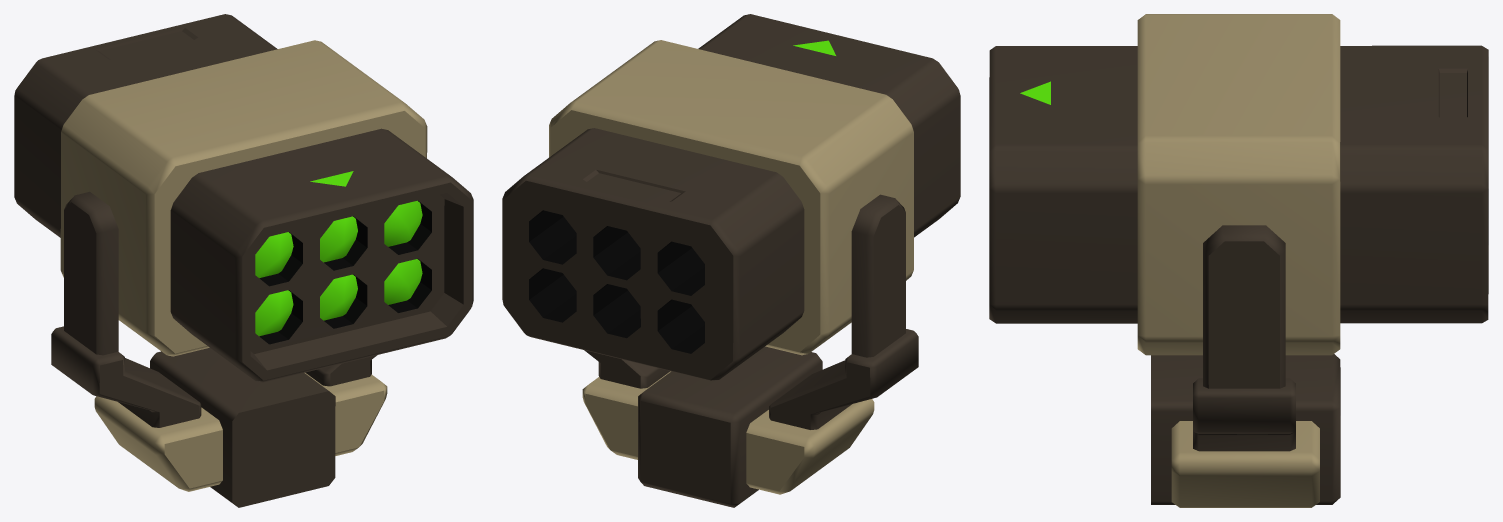
The model's file is Rocket.fbx.
The picture shows the model from 3 angles, left to right: view 1: azimuth 30°, elevation 25°; view 2: azimuth 150°, elevation 25°; view 3: azimuth 270°, elevation 25°; orthographic projection. The views are drawn at different scales.
Visible parts, largest first — view 1: rocketGun, rocketRoot; view 2: rocketGun, rocketRoot; view 3: rocketGun, rocketRoot.
Part boxes in pixels (box(x1,y1,x2,y2)): rocketGun: box(14, 14, 473, 382); rocketRoot: box(51, 191, 387, 507); rocketGun: box(502, 14, 960, 381); rocketRoot: box(582, 194, 918, 507); rocketGun: box(989, 14, 1488, 355); rocketRoot: box(1151, 225, 1340, 507).
Bounding box in the file's own units: 0.3648 × 0.3801 × 0.4234.
